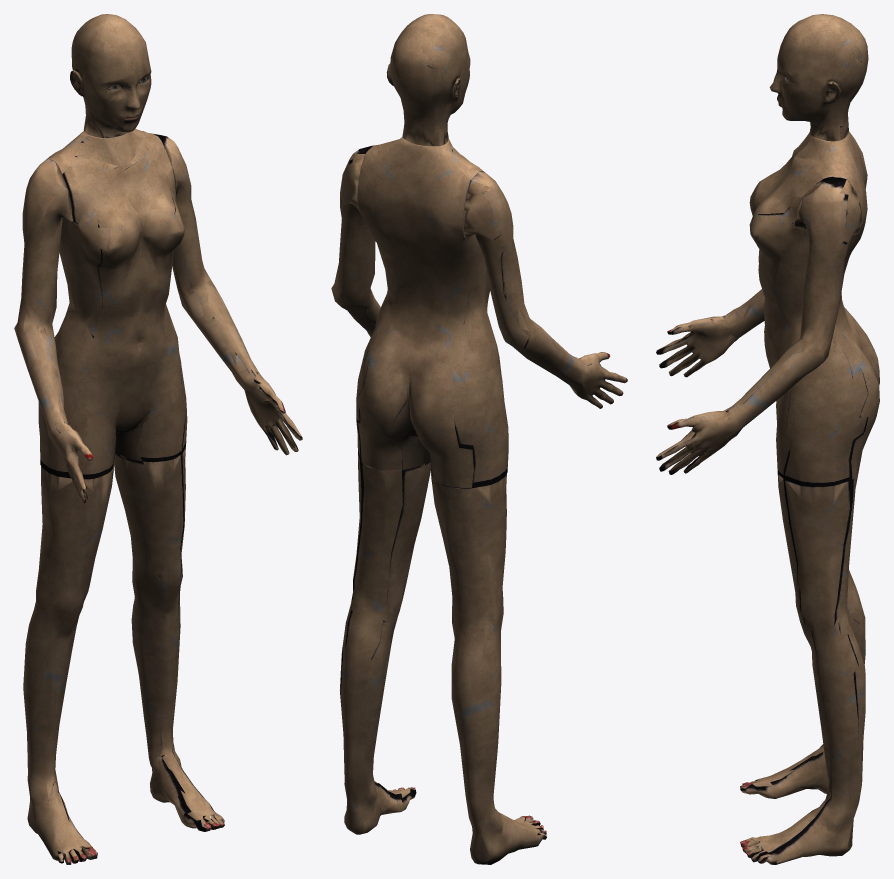
The picture shows the model from 3 angles, left to right: view 1: azimuth 30°, elevation 25°; view 2: azimuth 150°, elevation 25°; view 3: azimuth 270°, elevation 25°; orthographic projection. The views are drawn at different scales.
Parts seen in each view (by area): view 1: torso_main_0_18, bein_rechts_main_0_12, bein_links_main_0_10, arm_links_gebeugt_main_0_0, arm_rechts_gebeugt_main_0_3, kopf_main_0_16; view 2: torso_main_0_18, bein_rechts_main_0_12, bein_links_main_0_10, arm_links_gebeugt_main_0_0, kopf_main_0_16, arm_rechts_gebeugt_main_0_3; view 3: torso_main_0_18, bein_links_main_0_10, arm_rechts_gebeugt_main_0_3, kopf_main_0_16, arm_links_gebeugt_main_0_0, bein_rechts_main_0_12.
Part boxes in pixels (x1=…): torso_main_0_18: x1=38, y1=129, x2=187, y2=479; bein_rechts_main_0_12: x1=23, y1=463, x2=114, y2=864; bein_links_main_0_10: x1=114, y1=446, x2=224, y2=831; arm_links_gebeugt_main_0_0: x1=14, y1=158, x2=93, y2=504; arm_rechts_gebeugt_main_0_3: x1=153, y1=133, x2=302, y2=455; kopf_main_0_16: x1=70, y1=14, x2=151, y2=138; torso_main_0_18: x1=356, y1=137, x2=508, y2=488; bein_rechts_main_0_12: x1=431, y1=473, x2=546, y2=864; bein_links_main_0_10: x1=339, y1=454, x2=430, y2=834; arm_links_gebeugt_main_0_0: x1=463, y1=171, x2=627, y2=408; kopf_main_0_16: x1=386, y1=14, x2=470, y2=146; arm_rechts_gebeugt_main_0_3: x1=331, y1=145, x2=380, y2=337; torso_main_0_18: x1=749, y1=131, x2=879, y2=486; bein_links_main_0_10: x1=740, y1=472, x2=865, y2=864; arm_rechts_gebeugt_main_0_3: x1=656, y1=177, x2=861, y2=474; kopf_main_0_16: x1=769, y1=14, x2=868, y2=141; arm_links_gebeugt_main_0_0: x1=656, y1=289, x2=764, y2=377; bein_rechts_main_0_12: x1=740, y1=570, x2=865, y2=798.
Size of the model in its own units: 0.4694 by 1.65 by 0.4139.
2 materials, 2 textured.
